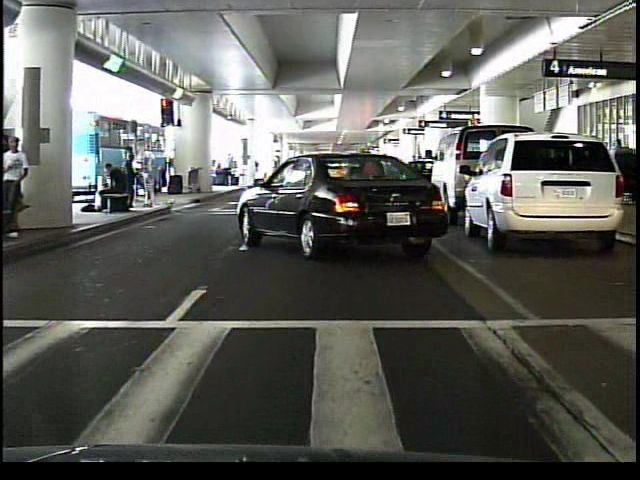person: (118, 147, 146, 219), (94, 162, 130, 218)
